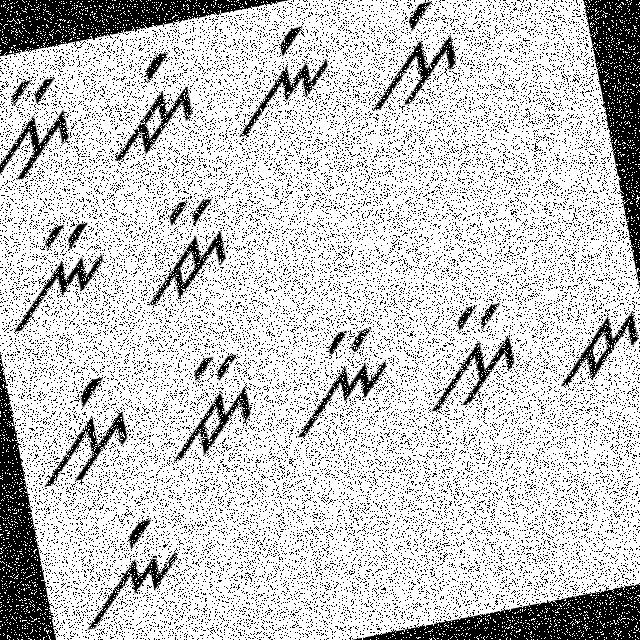ja: (537, 296, 639, 394)
jan: (150, 346, 272, 474), (120, 188, 243, 312)
jang: (88, 44, 210, 170)
nyan: (273, 311, 406, 456), (0, 211, 121, 342)
nyang: (61, 511, 201, 637), (216, 20, 346, 142)
san: (410, 292, 532, 419), (0, 65, 90, 192)
sang: (17, 363, 146, 501), (351, 0, 480, 123)
